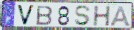8: (58, 6, 70, 27)
A: (109, 6, 132, 28)
B: (36, 6, 54, 26)
H: (93, 5, 112, 27)
S: (74, 5, 92, 27)
V: (17, 4, 36, 27)
